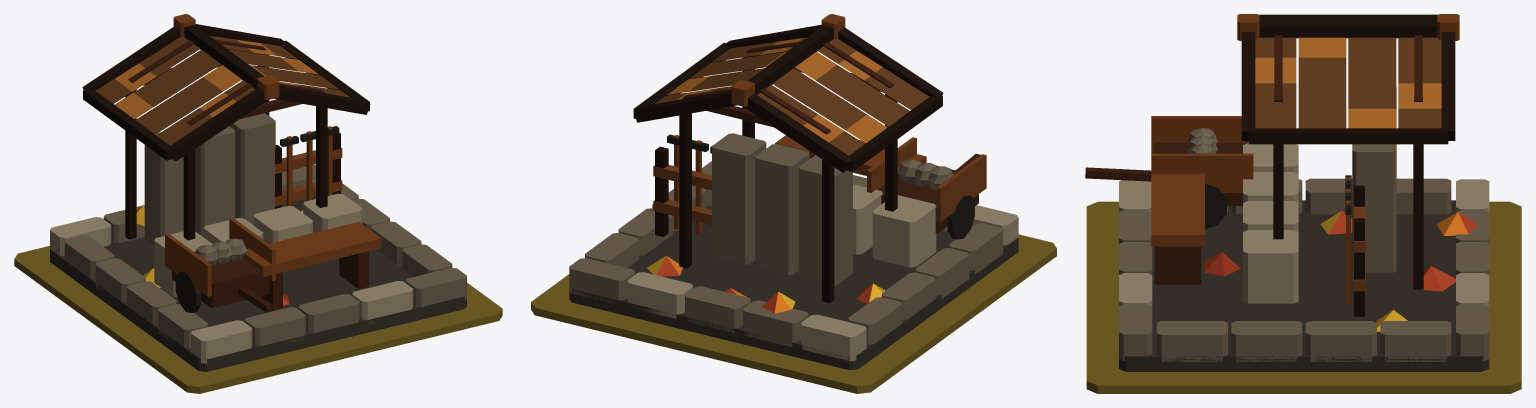
The model's file is mason_yard_t3.glb.
3 renders of one model, left to right at view 1: azimuth 30°, elevation 25°; view 2: azimuth 150°, elevation 25°; view 3: azimuth 270°, elevation 25°, orthographic. The views are drawn at different scales.
Visible parts, largest first — view 1: MMR | mason_yard | T03 Architecture.001, MMR | mason_yard | Tier 03 Ground.001; view 2: MMR | mason_yard | T03 Architecture.001, MMR | mason_yard | Tier 03 Ground.001, MMR | mason_yard | T03 Autumn Dressing.001; view 3: MMR | mason_yard | T03 Architecture.001, MMR | mason_yard | Tier 03 Ground.001, MMR | mason_yard | T03 Autumn Dressing.001.
Part boxes in pixels (bbox=[...]): MMR | mason_yard | T03 Architecture.001: bbox=[50, 14, 466, 371]; MMR | mason_yard | Tier 03 Ground.001: bbox=[14, 246, 502, 393]; MMR | mason_yard | T03 Architecture.001: bbox=[569, 14, 1018, 370]; MMR | mason_yard | Tier 03 Ground.001: bbox=[531, 234, 1056, 393]; MMR | mason_yard | T03 Autumn Dressing.001: bbox=[647, 255, 885, 313]; MMR | mason_yard | T03 Architecture.001: bbox=[1085, 14, 1489, 371]; MMR | mason_yard | Tier 03 Ground.001: bbox=[1086, 201, 1521, 393]; MMR | mason_yard | T03 Autumn Dressing.001: bbox=[1204, 211, 1477, 331].
Bounding box in the file's own units: 2.35 × 1.65 × 2.36.
Materials: 1 (1 with a texture image).
